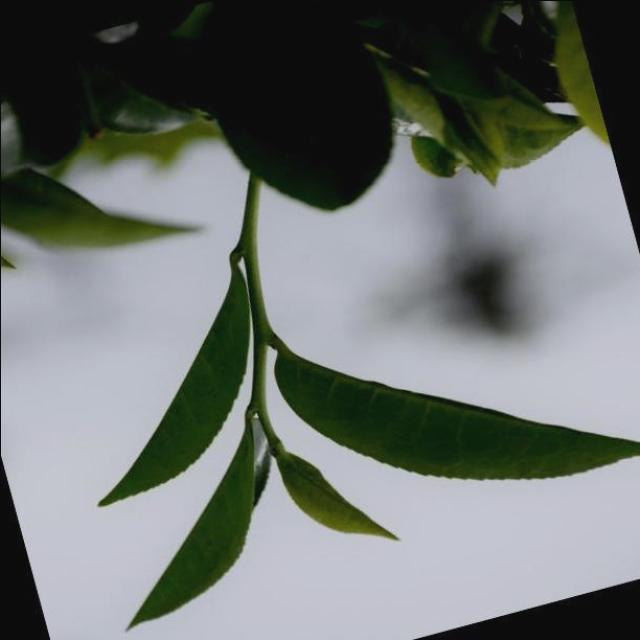Stem: (250, 388, 266, 407)
